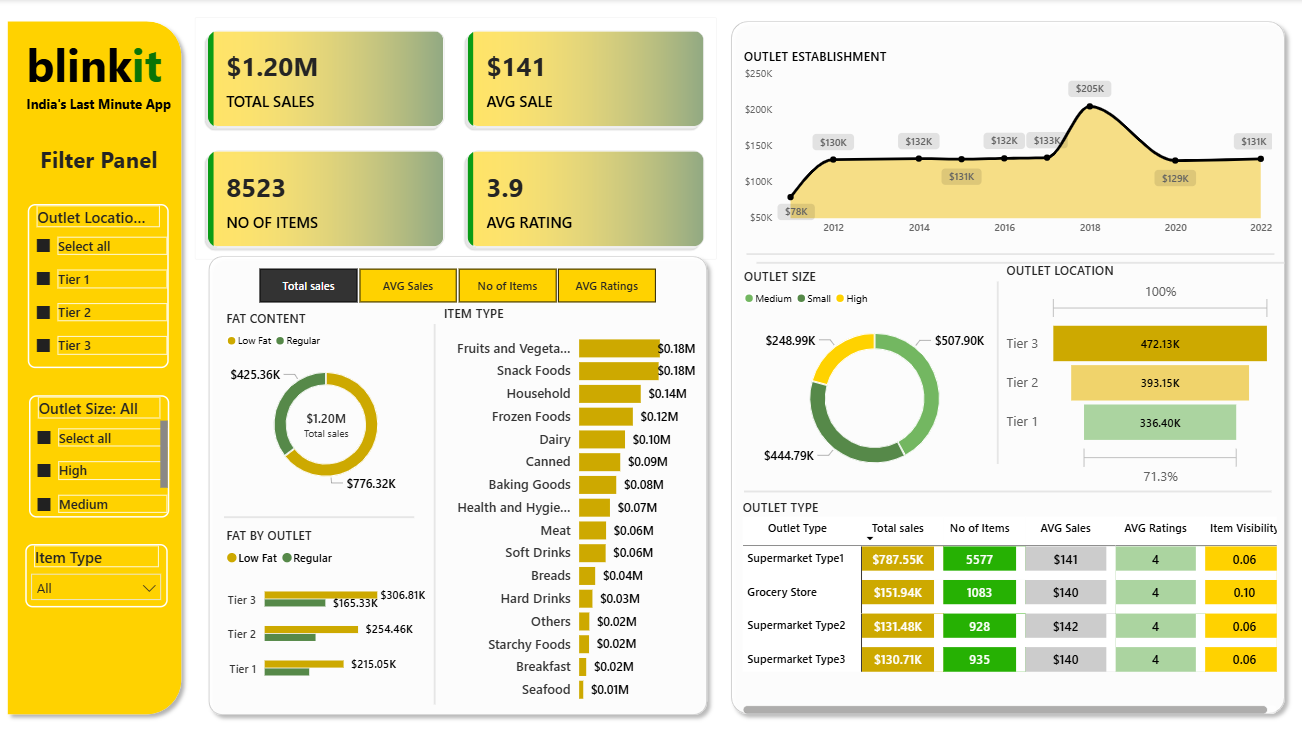

Layout of this report page (visuals, bound fields, positions):
{"tool":"powerbi","page":{"name":"Page 1","canvas":[1400,800],"ordinal":0},"visuals":[{"type":"shape","box":[0,15.4,204.6,761.5],"z":0},{"type":"textbox","box":[29.5,37.7,149.2,65.6],"z":1000},{"type":"textbox","box":[29.5,103.3,163.9,34.4],"z":2000},{"type":"cardVisual","fields":{"Data":["BlinkIT Grocery Data.Total sales","BlinkIT Grocery Data.AVG Sales","BlinkIT Grocery Data.No of Items","BlinkIT Grocery Data.AVG Ratings"]},"box":[204.9,14.8,570.5,270.5],"z":3000},{"type":"shape","box":[215.3,266.1,552.5,510.2],"z":4000},{"type":"donutChart","title":"FAT CONTENT","fields":{"Category":["BlinkIT Grocery Data.Item Fat Content"],"Y":["BlinkIT Grocery Data.Total sales"]},"box":[227.9,319,245.3,230.6],"z":5000},{"type":"slicer","fields":{"Values":["Metrics.Metrics"]},"box":[259.3,286.4,464.4,40.7],"z":6000},{"type":"cardVisual","fields":{"Data":["BlinkIT Grocery Data.Total sales"]},"box":[307,434.3,88.5,44.2],"z":7000},{"type":"clusteredBarChart","title":"FAT BY OUTLET","fields":{"Category":["BlinkIT Grocery Data.Outlet Location Type"],"Series":["BlinkIT Grocery Data.Item Fat Content"],"Y":["BlinkIT Grocery Data.Total sales"]},"box":[227.9,550.9,245.3,207.8],"z":7001},{"type":"shape","box":[241.9,550,204.1,12.2],"z":7002},{"type":"shape","box":[460.8,348.6,12.2,408.1],"z":7003},{"type":"barChart","title":"ITEM TYPE","fields":{"Category":["BlinkIT Grocery Data.Item Type"],"Y":["BlinkIT Grocery Data.Total sales"]},"box":[461,313.6,301.7,462.7],"z":7004},{"type":"shape","box":[776.3,15.3,611.9,761],"z":7005},{"type":"lineChart","title":"OUTLET ESTABLISHMENT","fields":{"Category":["BlinkIT Grocery Data.Outlet Establishment Year"],"Y":["BlinkIT Grocery Data.Total sales"]},"box":[783.1,37.3,598.3,235.6],"z":7006},{"type":"shape","box":[801.7,266.1,566.1,13.6],"z":7007},{"type":"donutChart","title":"OUTLET SIZE","fields":{"Category":["BlinkIT Grocery Data.Outlet Size"],"Y":["BlinkIT Grocery Data.Total sales"]},"box":[782.8,273.5,312.3,265.4],"z":7008},{"type":"shape","box":[1059,303,24.1,195.7],"z":7009},{"type":"funnel","title":"OUTLET LOCATION","fields":{"Category":["BlinkIT Grocery Data.Outlet Location Type"],"Y":["Sum(BlinkIT Grocery Data.Sales)"]},"box":[1064.3,266.8,316.4,272.1],"z":7010},{"type":"pivotTable","title":"OUTLET TYPE","fields":{"Rows":["BlinkIT Grocery Data.Outlet Type"],"Values":["BlinkIT Grocery Data.Total sales","BlinkIT Grocery Data.No of Items","BlinkIT Grocery Data.AVG Sales","BlinkIT Grocery Data.AVG Ratings","Avg(BlinkIT Grocery Data.Item Visibility)"]},"box":[781.5,521.5,604.6,261.4],"z":7011},{"type":"shape","box":[798.9,521.5,565.7,13.4],"z":7012},{"type":"slicer","fields":{"Values":["BlinkIT Grocery Data.Outlet Location Type"]},"box":[32.2,219.8,160.9,175.6],"z":7013},{"type":"shape","box":[811.7,276.1,566.1,13.6],"z":7014},{"type":"slicer","fields":{"Values":["BlinkIT Grocery Data.Outlet Size"]},"box":[32.2,424.9,150.1,131.4],"z":7015},{"type":"slicer","fields":{"Values":["BlinkIT Grocery Data.Item Type"]},"box":[28.8,584.7,152.5,67.8],"z":7016},{"type":"textbox","box":[44.1,155.9,171.2,40.7],"z":7017}]}

Visuals, with their boxes in screenshot pixels (x1, y1, x2, y2), scaled from the page's 1400x800 canvas onto the 1302x743 screenshot:
shape: select_region(0, 14, 190, 722)
textbox: select_region(27, 35, 166, 96)
textbox: select_region(27, 96, 180, 128)
cardVisual - BlinkIT Grocery Data.Total sales x BlinkIT Grocery Data.AVG Sales: select_region(191, 14, 721, 265)
shape: select_region(200, 247, 714, 721)
"FAT CONTENT" donutChart: select_region(212, 296, 440, 510)
slicer - Metrics.Metrics: select_region(241, 266, 673, 304)
cardVisual - BlinkIT Grocery Data.Total sales: select_region(286, 403, 368, 444)
"FAT BY OUTLET" clusteredBarChart: select_region(212, 512, 440, 705)
shape: select_region(225, 511, 415, 522)
shape: select_region(429, 324, 440, 703)
"ITEM TYPE" barChart: select_region(429, 291, 709, 721)
shape: select_region(722, 14, 1291, 721)
"OUTLET ESTABLISHMENT" lineChart: select_region(728, 35, 1285, 253)
shape: select_region(746, 247, 1272, 260)
"OUTLET SIZE" donutChart: select_region(728, 254, 1018, 501)
shape: select_region(985, 281, 1007, 463)
"OUTLET LOCATION" funnel: select_region(990, 248, 1284, 501)
"OUTLET TYPE" pivotTable: select_region(727, 484, 1289, 727)
shape: select_region(743, 484, 1269, 497)
slicer - BlinkIT Grocery Data.Outlet Location Type: select_region(30, 204, 180, 367)
shape: select_region(755, 256, 1281, 269)
slicer - BlinkIT Grocery Data.Outlet Size: select_region(30, 395, 170, 517)
slicer - BlinkIT Grocery Data.Item Type: select_region(27, 543, 169, 606)
textbox: select_region(41, 145, 200, 183)
